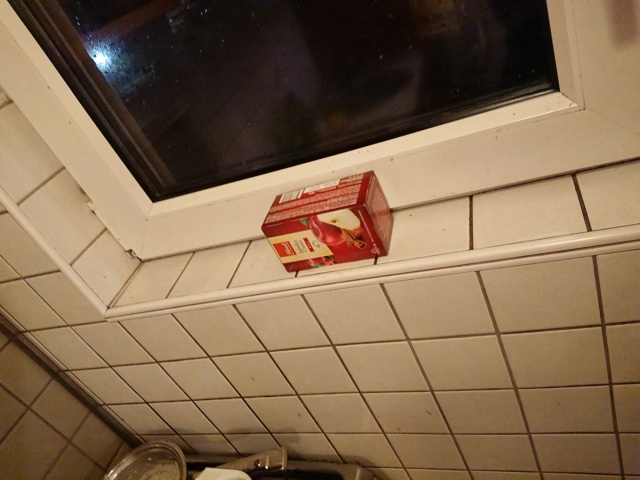Franck Apple Cinnamon Tea 60g: (258, 167, 397, 275)
